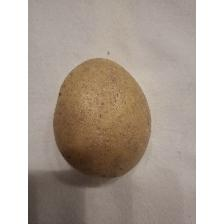Kartoffel: (52, 56, 154, 182)
